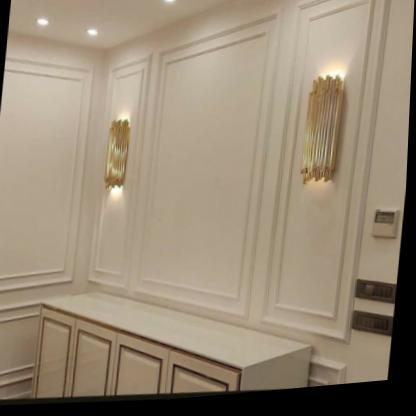Futec frame: (129, 0, 287, 341), (261, 0, 396, 362), (84, 53, 154, 308)
